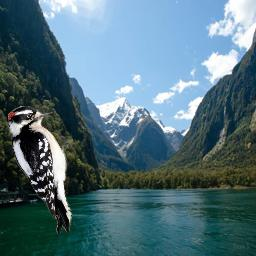Woodpecker: (8, 106, 73, 235)
